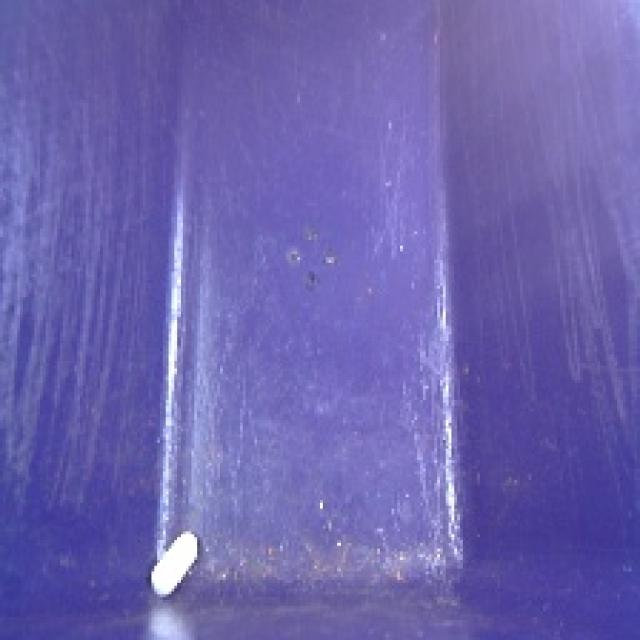small: (139, 522, 205, 616)
